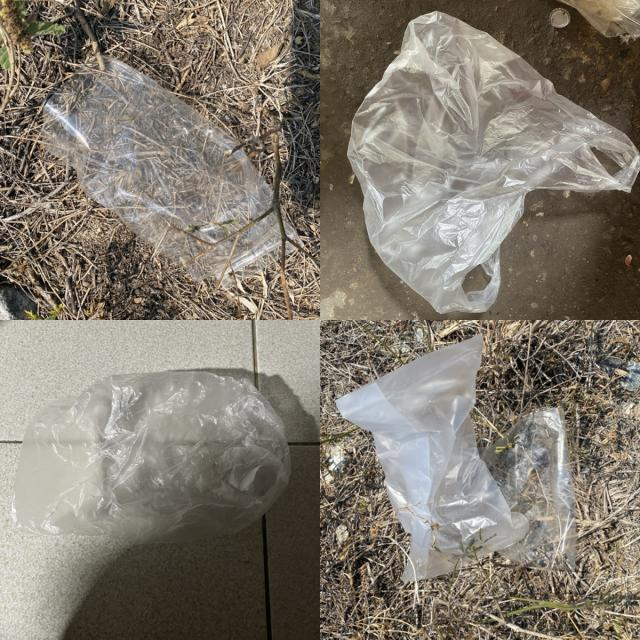Single-layer Plastic: (348, 11, 640, 313), (42, 58, 298, 286), (12, 371, 290, 543), (336, 335, 529, 581), (481, 408, 576, 570)
